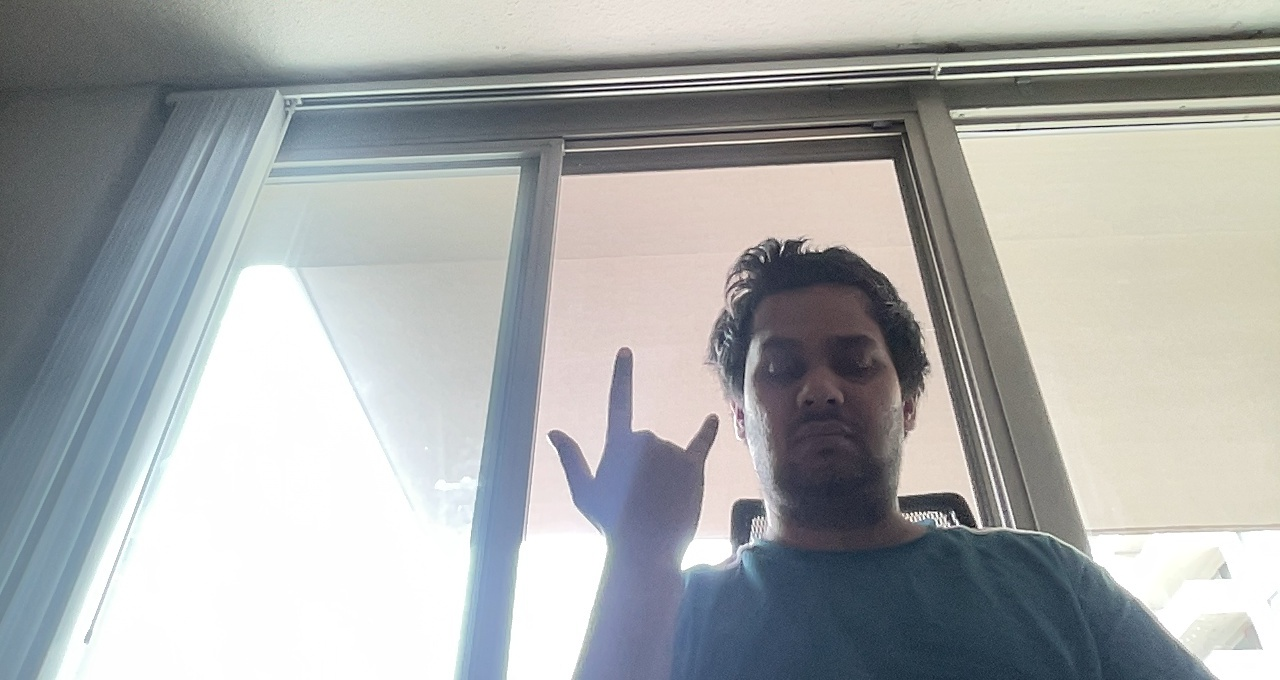rockon sign: (545, 343, 724, 565)
